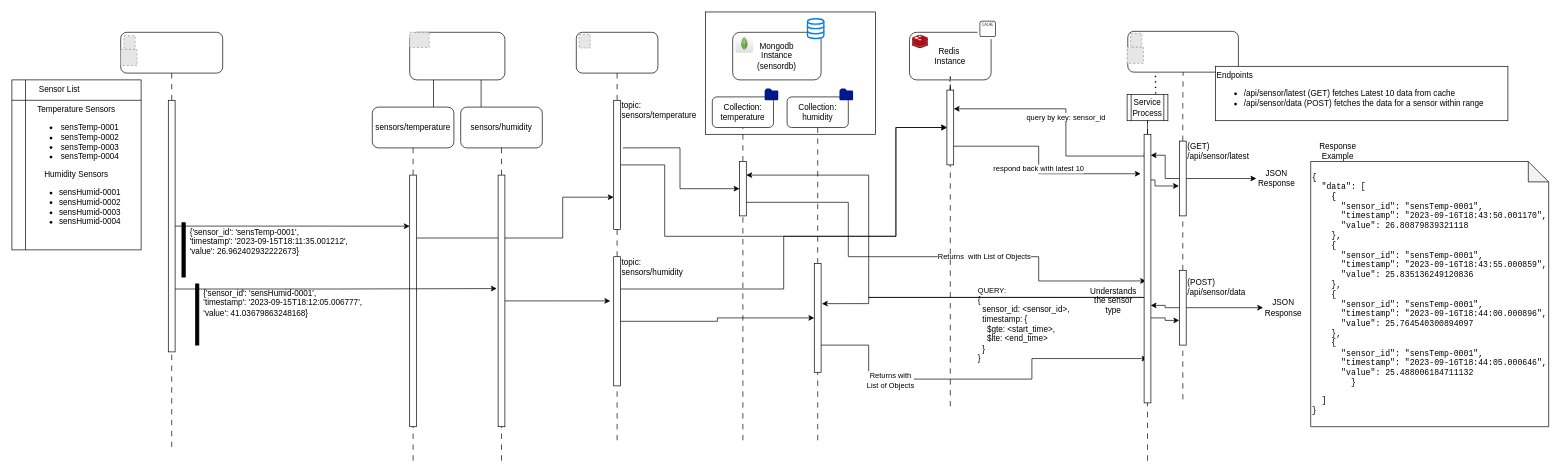
Some shapes in this 1561 by 473 pixel diagram are drawn without their labels. Grey dashed boxes stand in for pictures. Here are the shapes that lost their labels. From the top down, the box of each, then its label:
(120, 32, 223, 73): Publisher (Uvicorn Server)
(409, 32, 505, 80): Mosquitto Broker (MQTT protocol)
(576, 32, 658, 73): Subscriber
(1127, 31, 1238, 72): WebApp (Uvicorn Server)
